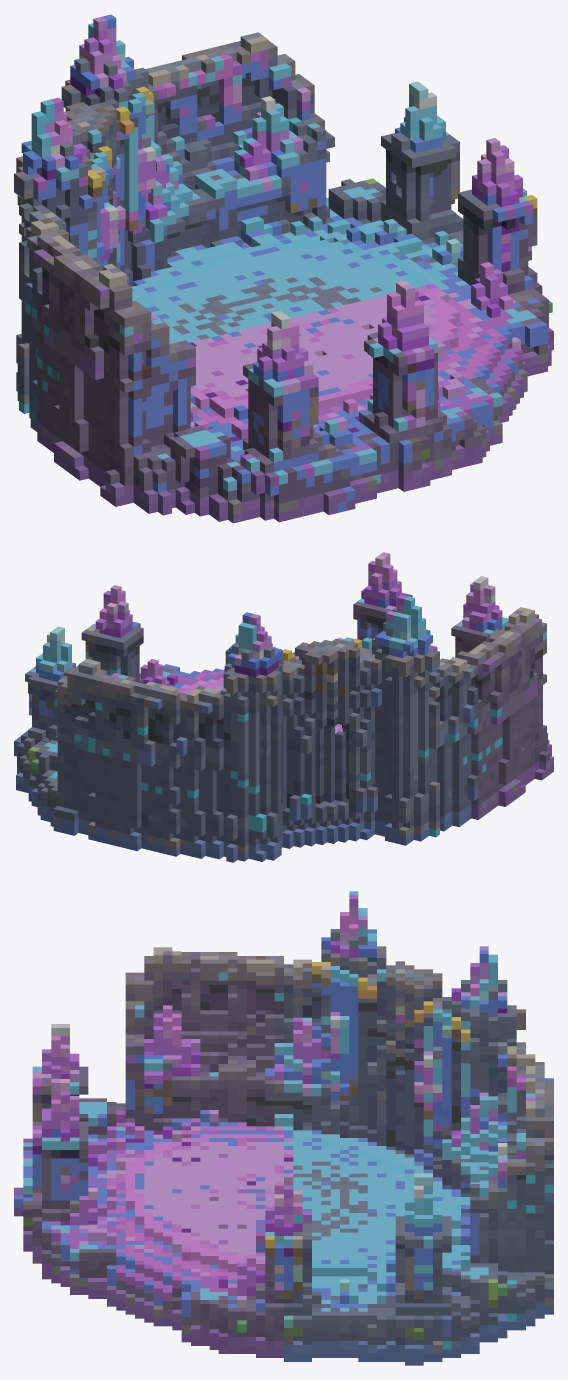
The model's file is chikiseum_voxel.glb.
3 renders of one model, top to bottom at view 1: azimuth 30°, elevation 25°; view 2: azimuth 150°, elevation 25°; view 3: azimuth 270°, elevation 25°, orthographic. The views are drawn at different scales.
Bounding box in the file's own units: 58 × 32 × 58.
